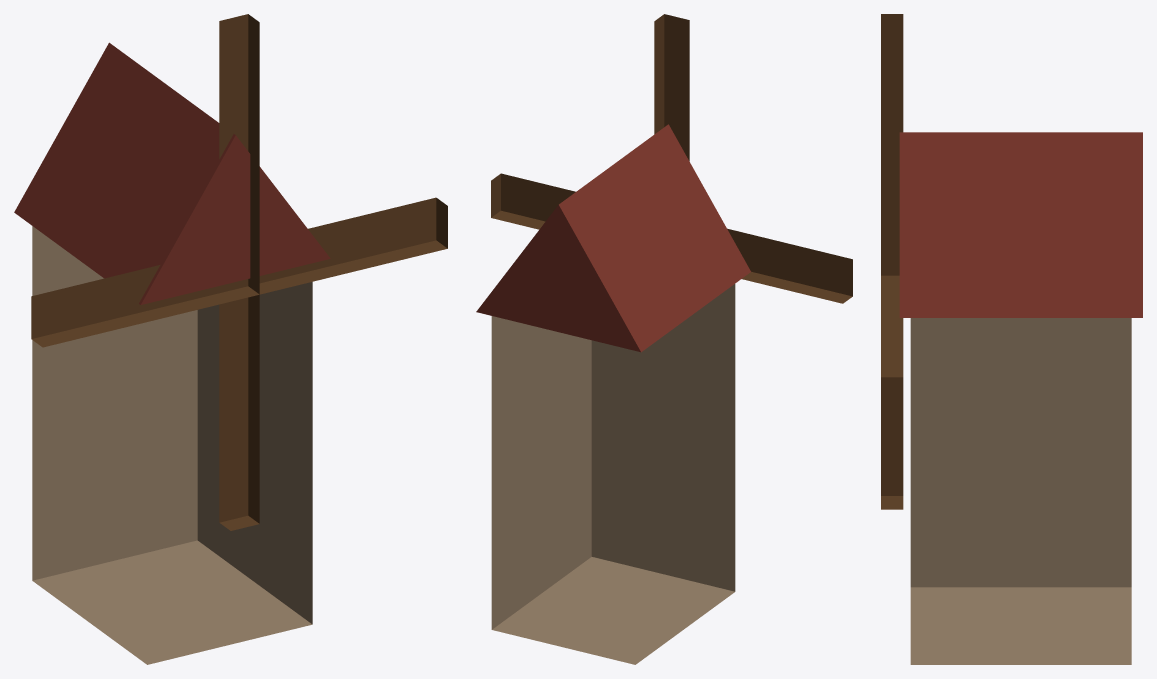
Rendered from mill.glb.
The picture shows the model from 3 angles, left to right: view 1: azimuth 30°, elevation 25°; view 2: azimuth 150°, elevation 25°; view 3: azimuth 270°, elevation 25°; orthographic projection. The views are drawn at different scales.
Visible parts, largest first — view 1: mill; view 2: mill; view 3: mill.
Part boxes in pixels (left/top/right/bottom): mill: left=14, top=14, right=447, bottom=664; mill: left=476, top=14, right=852, bottom=664; mill: left=881, top=14, right=1142, bottom=664.
Size of the model in its own units: 3.33 by 4.95 by 1.94.
